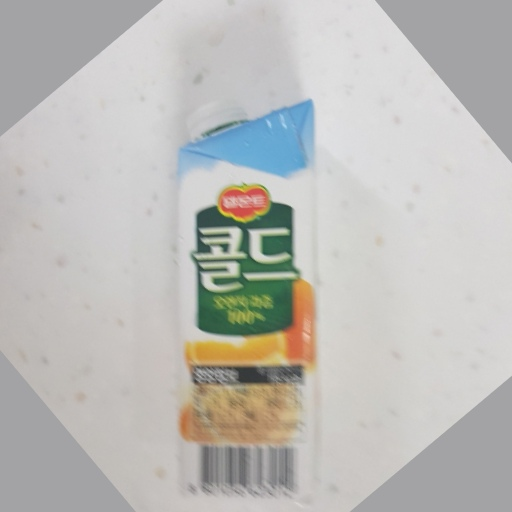Paper_0: (165, 94, 337, 509)
